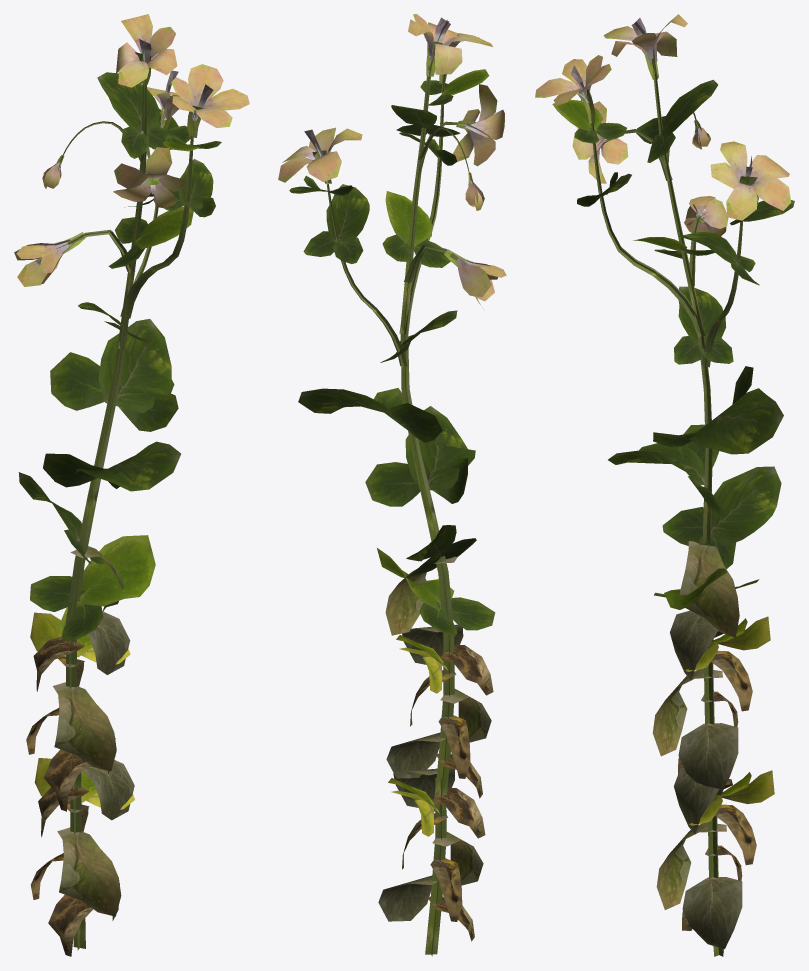
The model's file is Periwinkle_bush_short_yellowgreen.glb.
3 views of the same model, side by side, from view 1: azimuth 30°, elevation 25°; view 2: azimuth 150°, elevation 25°; view 3: azimuth 270°, elevation 25° (orthographic). The views are drawn at different scales.
Parts seen in each view (by area): view 1: _419c_Var3_LOD1.2; view 2: _419c_Var3_LOD1.2; view 3: _419c_Var3_LOD1.2.
Boxes of the visible parts, x1,y1,x2,y2 form: _419c_Var3_LOD1.2: (14, 14, 249, 956); _419c_Var3_LOD1.2: (278, 14, 506, 956); _419c_Var3_LOD1.2: (535, 14, 794, 956).
Size of the model in its own units: 0.6129 by 2.59 by 0.6394.
Materials: 1 (1 with a texture image).
